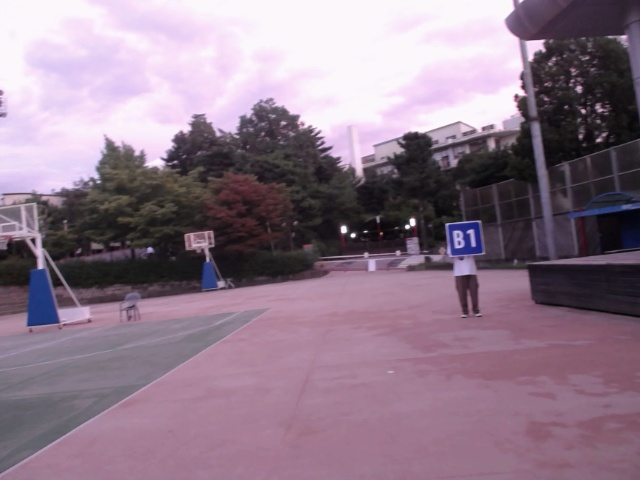delivery_b1: (447, 220, 484, 256)
